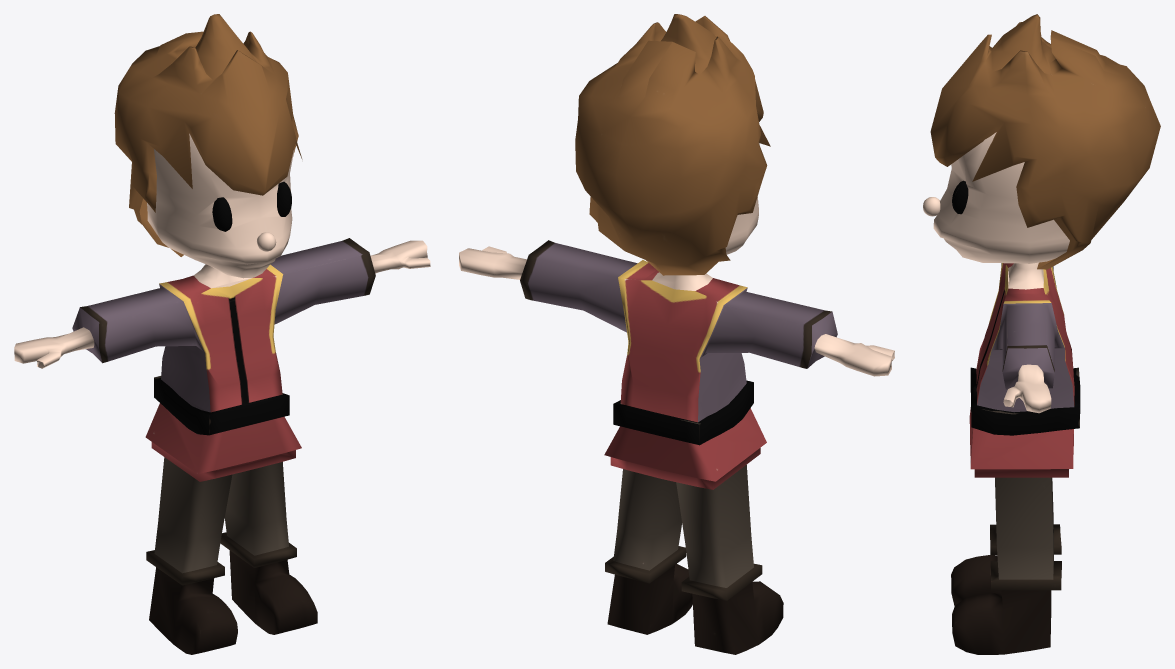
The model's file is AlowinTest.fbx.
The picture shows the model from 3 angles, left to right: view 1: azimuth 30°, elevation 25°; view 2: azimuth 150°, elevation 25°; view 3: azimuth 270°, elevation 25°; orthographic projection. The views are drawn at different scales.
Visible parts, largest first — view 1: polySurface11; view 2: polySurface11; view 3: polySurface11.
Part boxes in pixels (x1,y1,x2,y2): polySurface11: (14, 14, 430, 654); polySurface11: (459, 14, 894, 654); polySurface11: (923, 14, 1160, 654).
Bounding box in the file's own units: 4.71 × 6.62 × 2.34.
